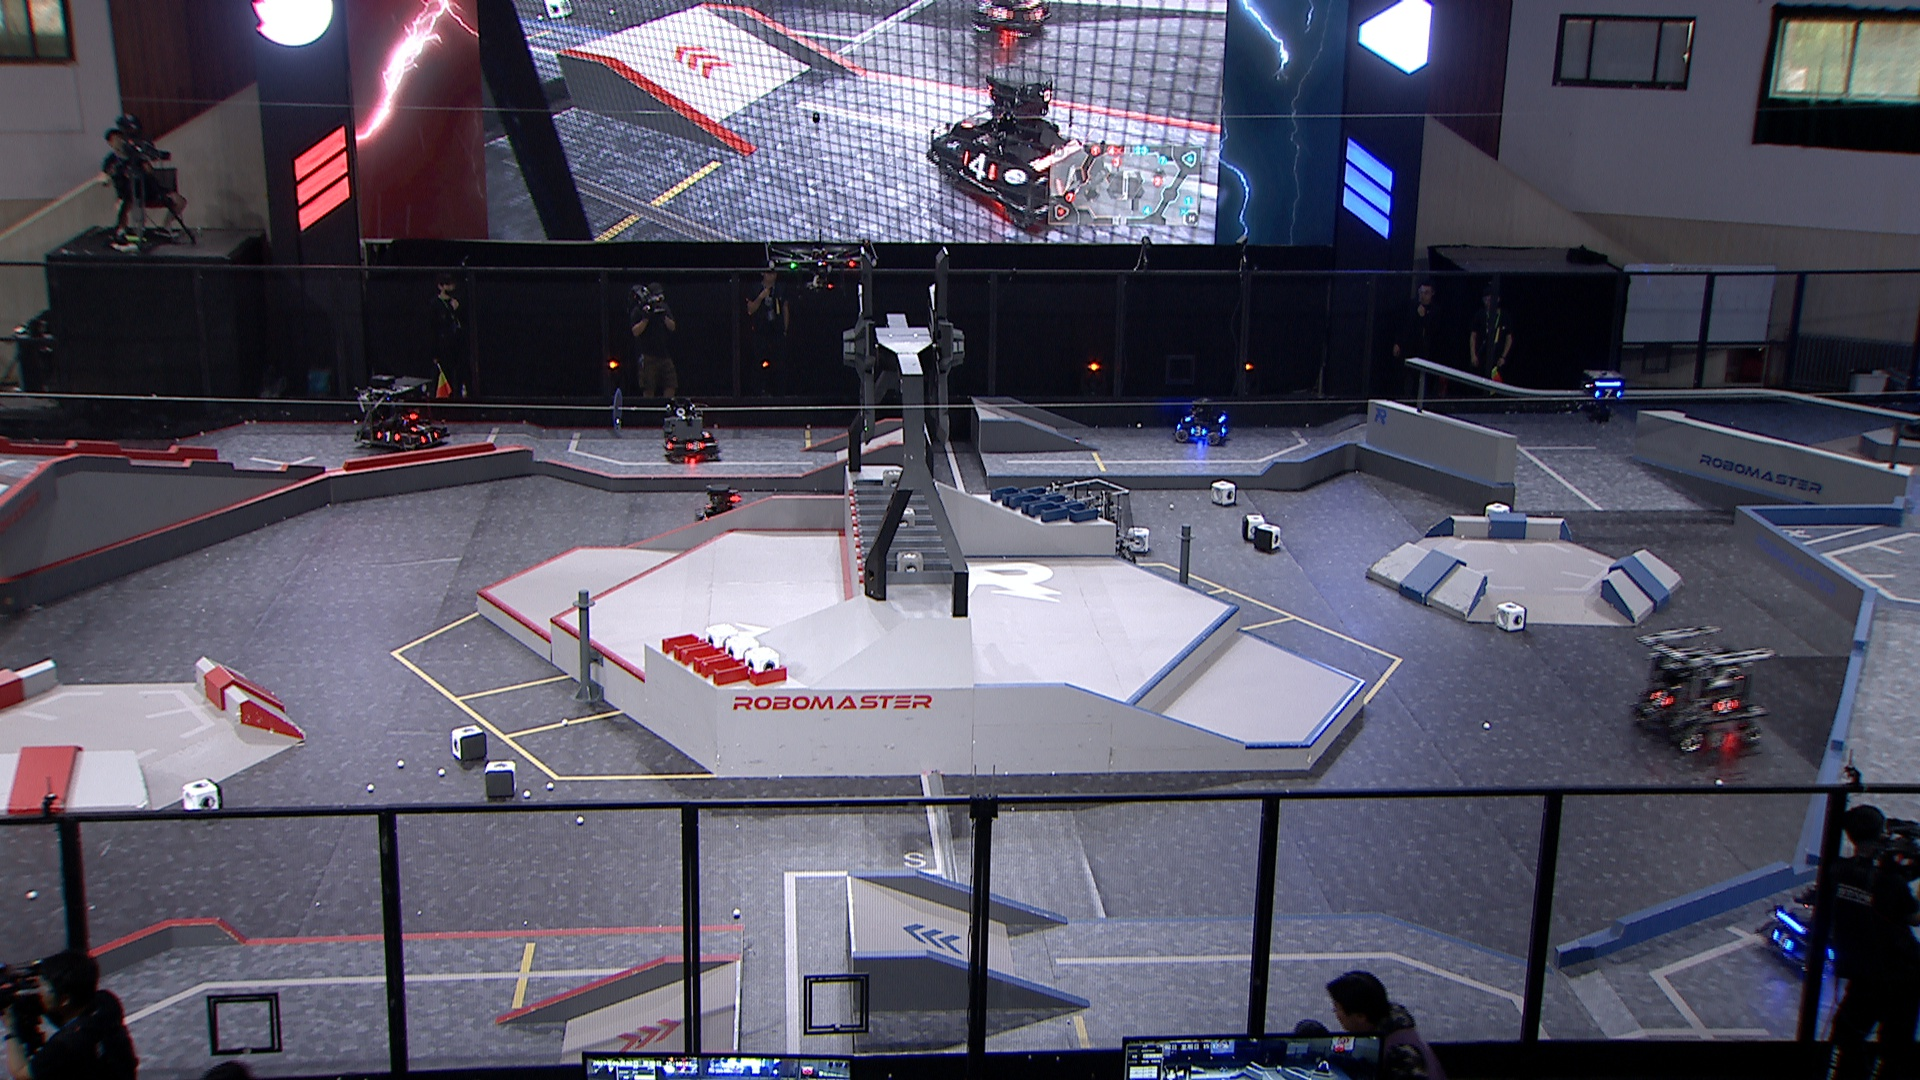armor: (1771, 927, 1797, 955), (1712, 698, 1741, 717), (1648, 688, 1675, 709), (1594, 386, 1623, 401), (376, 429, 401, 444), (684, 439, 707, 454), (419, 431, 440, 446), (409, 422, 434, 433), (1189, 425, 1207, 439)
car: (1633, 624, 1775, 756), (1760, 880, 1882, 977), (1035, 476, 1139, 585), (352, 373, 452, 450), (688, 483, 756, 545), (665, 406, 721, 465), (1174, 398, 1232, 446)
ignore: (931, 65, 1102, 232)
watcher: (1576, 371, 1626, 425)
